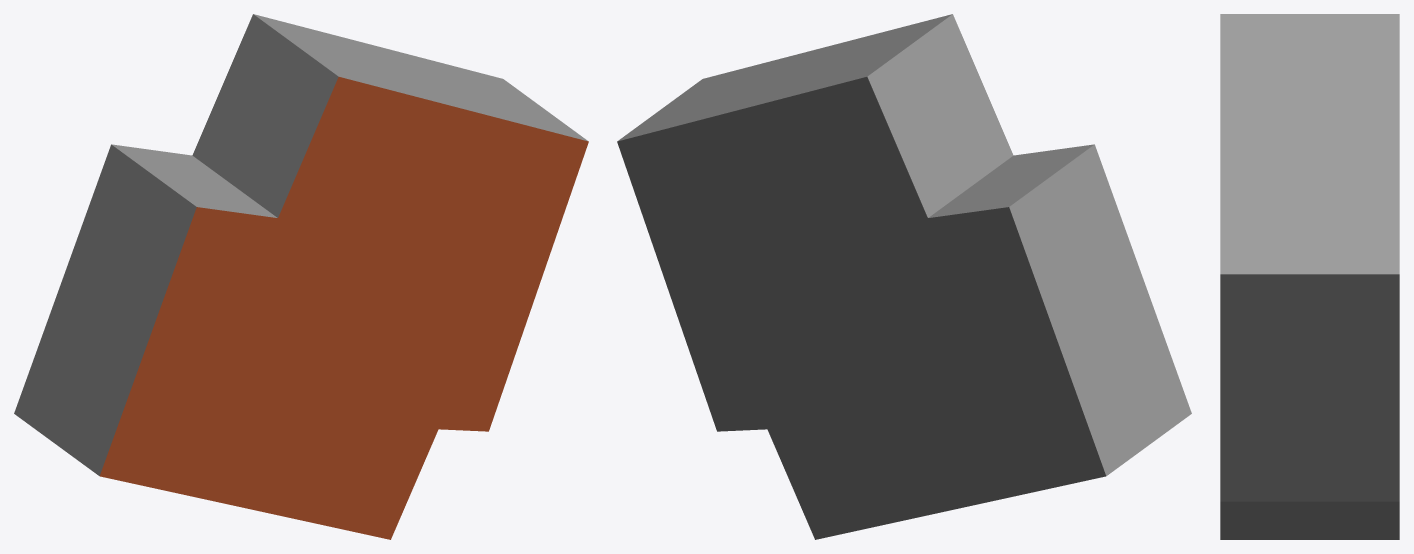
File: construction_1777_assumed_A_Casa_h6m.obj
The picture shows the model from 3 angles, left to right: view 1: azimuth 30°, elevation 25°; view 2: azimuth 150°, elevation 25°; view 3: azimuth 270°, elevation 25°; orthographic projection. The views are drawn at different scales.
Parts seen in each view (by area): view 1: construction_1777_assumed_A_Casa; view 2: construction_1777_assumed_A_Casa; view 3: construction_1777_assumed_A_Casa.
Part boxes in pixels (x1,y1,x2,y2): construction_1777_assumed_A_Casa: (14, 14, 588, 539); construction_1777_assumed_A_Casa: (617, 14, 1191, 539); construction_1777_assumed_A_Casa: (1220, 14, 1399, 539).
Bounding box in the file's own units: 19.8 × 18.41 × 6.
